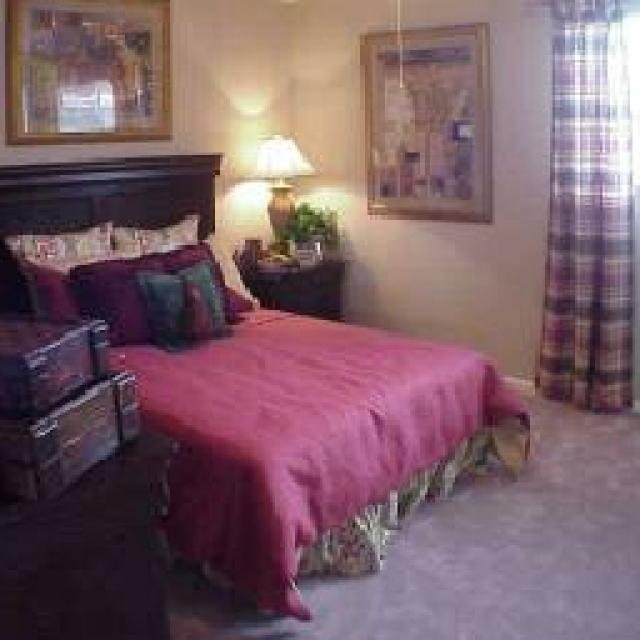bed -occluded-: (0, 152, 528, 615)
box contants: (0, 370, 142, 508), (0, 318, 105, 408)
carpet floor: (168, 392, 635, 632)
curtains: (532, 2, 628, 408)
dresser: (0, 430, 160, 630)
lamp crop: (242, 138, 312, 242)
night stand cabinet: (238, 245, 340, 312)
painting crop: (360, 25, 488, 215), (3, 0, 168, 138)
pillow occluded: (2, 212, 192, 318), (68, 242, 238, 348), (135, 260, 232, 345)
plant -x: (282, 202, 332, 268)
stack of suitcases: (2, 315, 138, 502)
